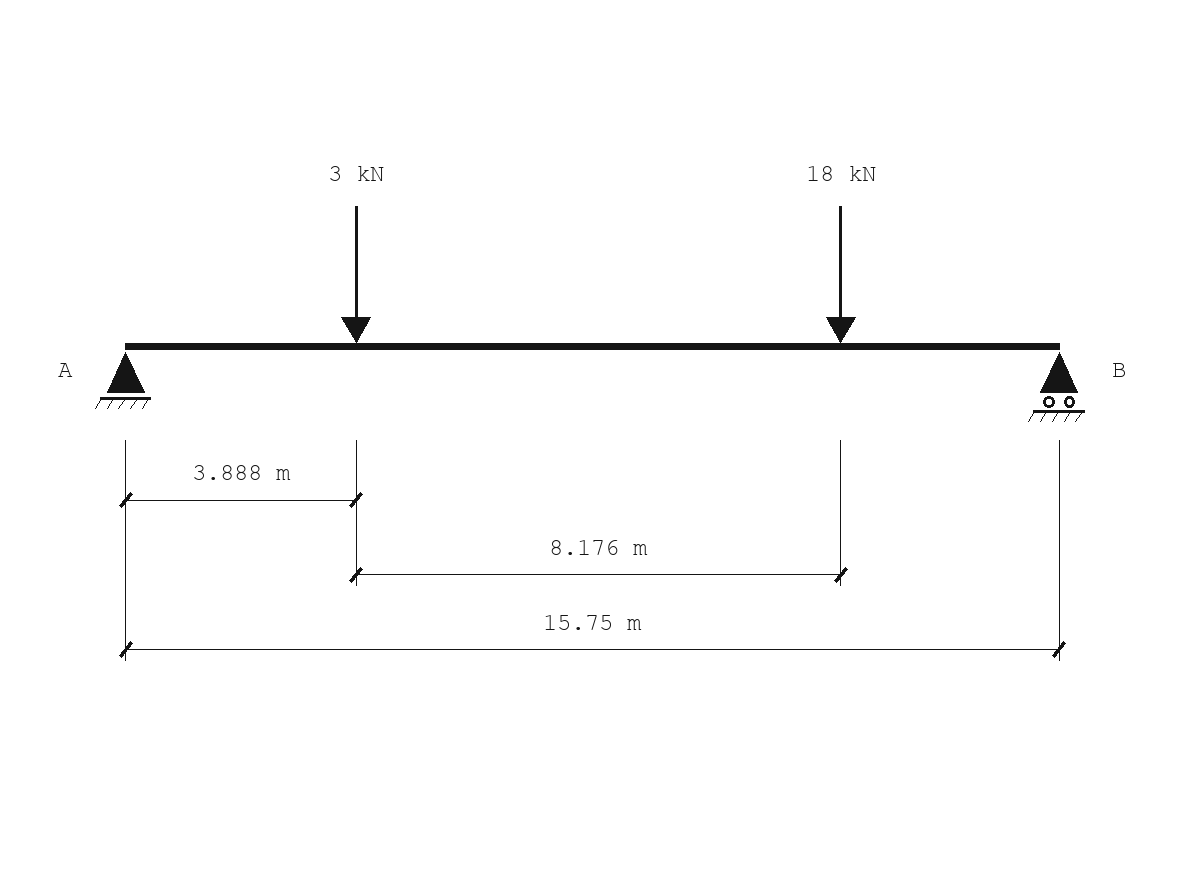pin_support: (95, 352, 151, 409)
point_load: (341, 206, 371, 343), (826, 206, 856, 343)
roller_support: (1028, 352, 1085, 422)
